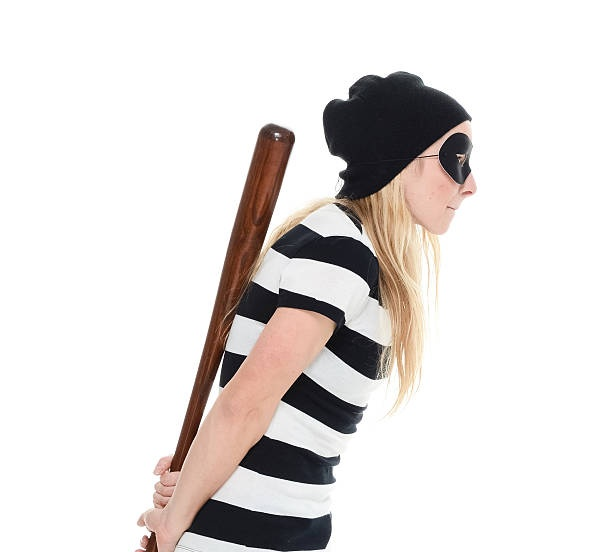bita: (142, 118, 299, 552)
